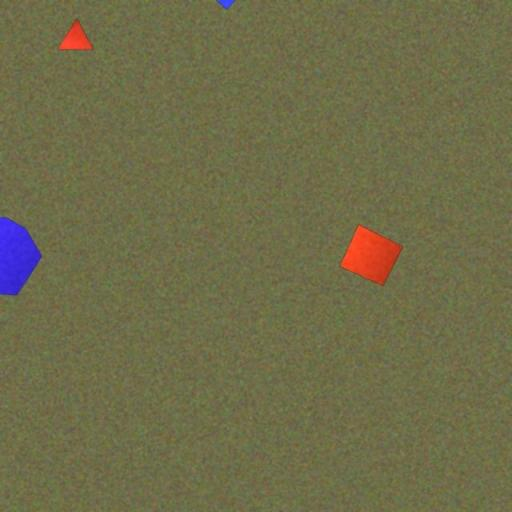RED_SQUARE: (339, 224, 404, 286)
